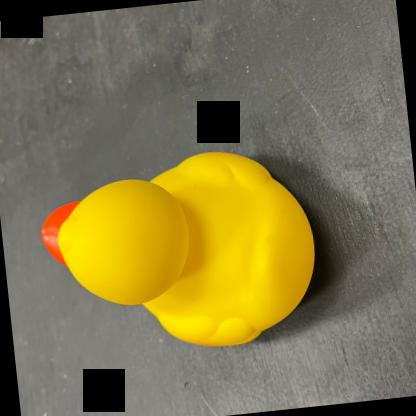duck: (28, 136, 331, 369)
